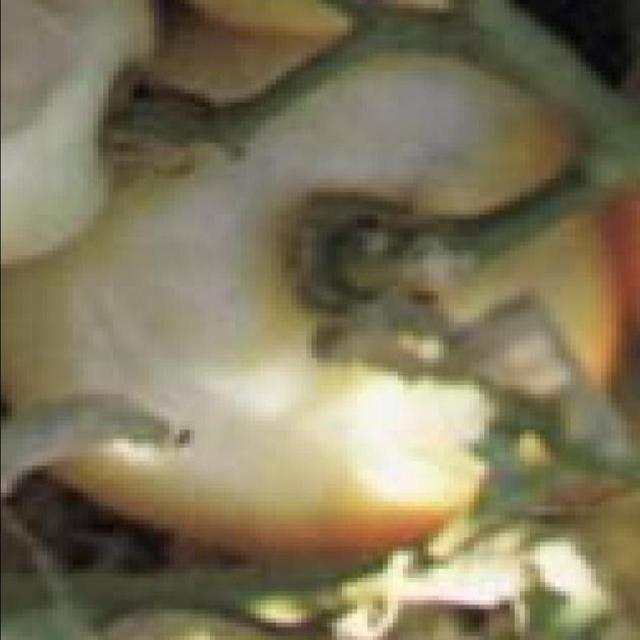Sunscald Fruit: (39, 54, 274, 243)
